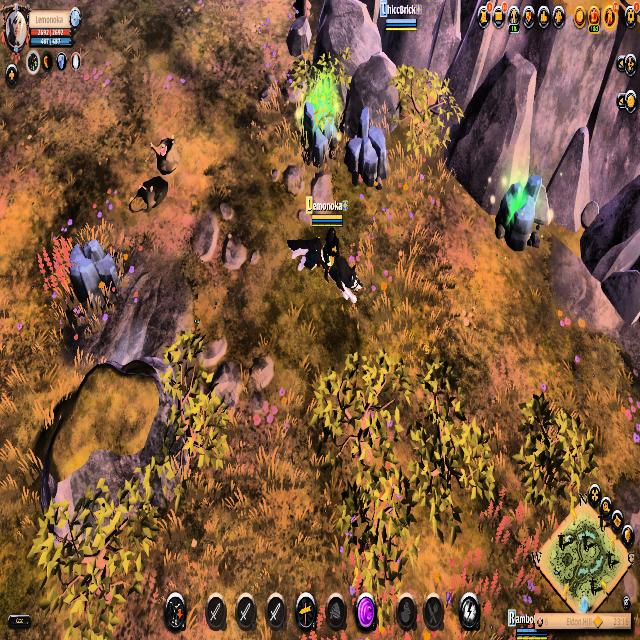rock tier 4: (491, 171, 545, 250), (343, 106, 393, 190), (66, 237, 120, 310), (300, 87, 341, 166)
